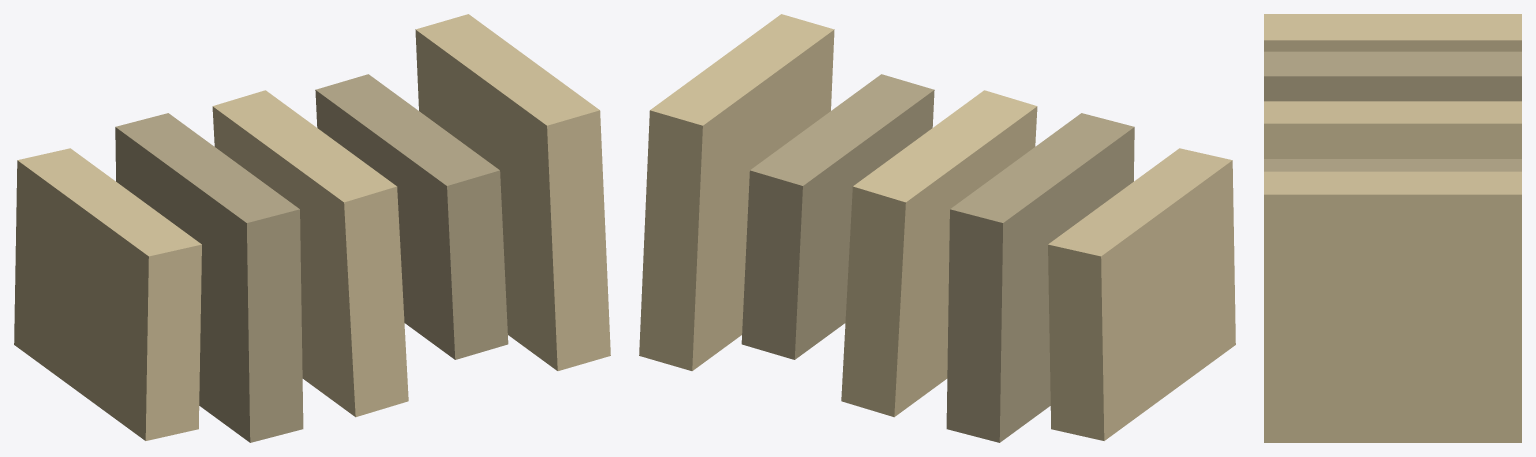
File: Crumble_Plank.obj
3 renders of one model, left to right at view 1: azimuth 30°, elevation 25°; view 2: azimuth 150°, elevation 25°; view 3: azimuth 270°, elevation 25°, orthographic.
Visible parts, largest first — view 1: Crumble_Plank; view 2: Crumble_Plank; view 3: Crumble_Plank.
Boxes of the visible parts, bbox=[...] form: Crumble_Plank: bbox=[14, 14, 610, 442]; Crumble_Plank: bbox=[639, 14, 1235, 442]; Crumble_Plank: bbox=[1264, 14, 1521, 442].
Size of the model in its own units: 0.9187 by 0.4731 by 0.45.
Materials: 1 (1 with a texture image).
